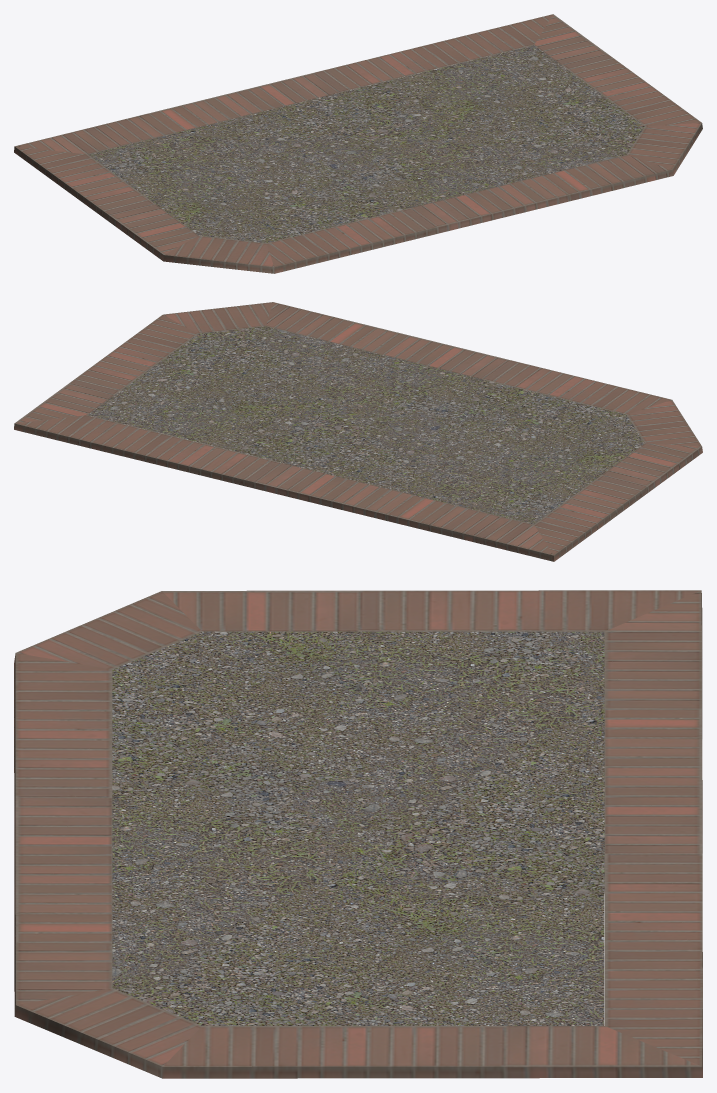
The model's file is Preset_PlantBaseB.fbx.
3 views of the same model, one above another, from view 1: azimuth 30°, elevation 25°; view 2: azimuth 150°, elevation 25°; view 3: azimuth 270°, elevation 25° (orthographic). The views are drawn at different scales.
Parts seen in each view (by area): view 1: Grass, Brick; view 2: Grass, Brick; view 3: Grass, Brick.
Boxes of the visible parts, x1=… form: Grass: x1=88, y1=45, x2=644, y2=243; Brick: x1=14, y1=14, x2=702, y2=273; Grass: x1=88, y1=326, x2=644, y2=524; Brick: x1=14, y1=302, x2=702, y2=561; Grass: x1=112, y1=631, x2=604, y2=1025; Brick: x1=14, y1=590, x2=702, y2=1078.
Bounding box in the file's own units: 230 × 140 × 2.75.
Materials: 2 (2 with a texture image).
